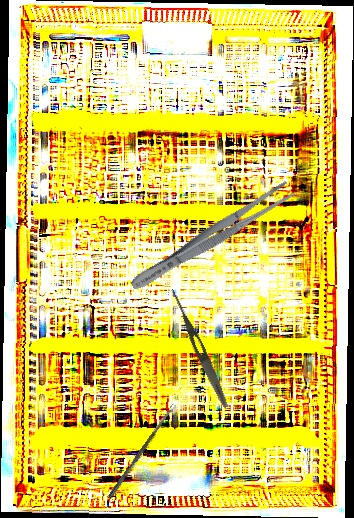Dressing Forceps: (126, 177, 297, 297), (166, 287, 232, 410)
Surgical Spoon: (107, 403, 177, 500)
